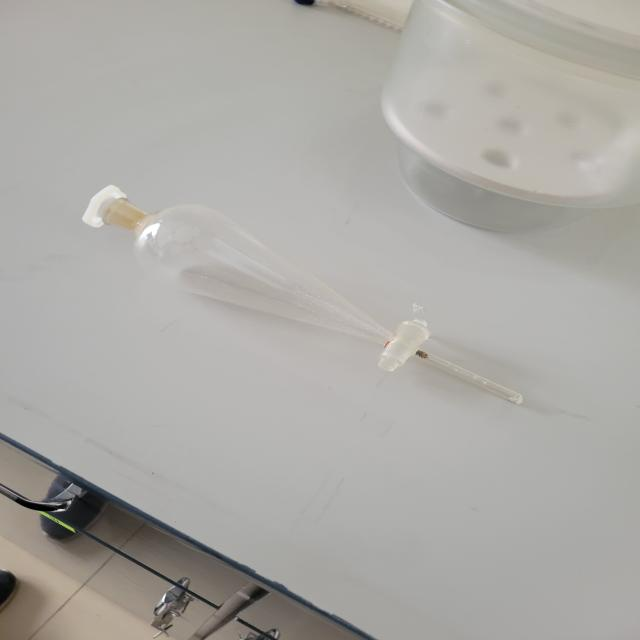Separating_Funnel: (56, 151, 563, 436)
